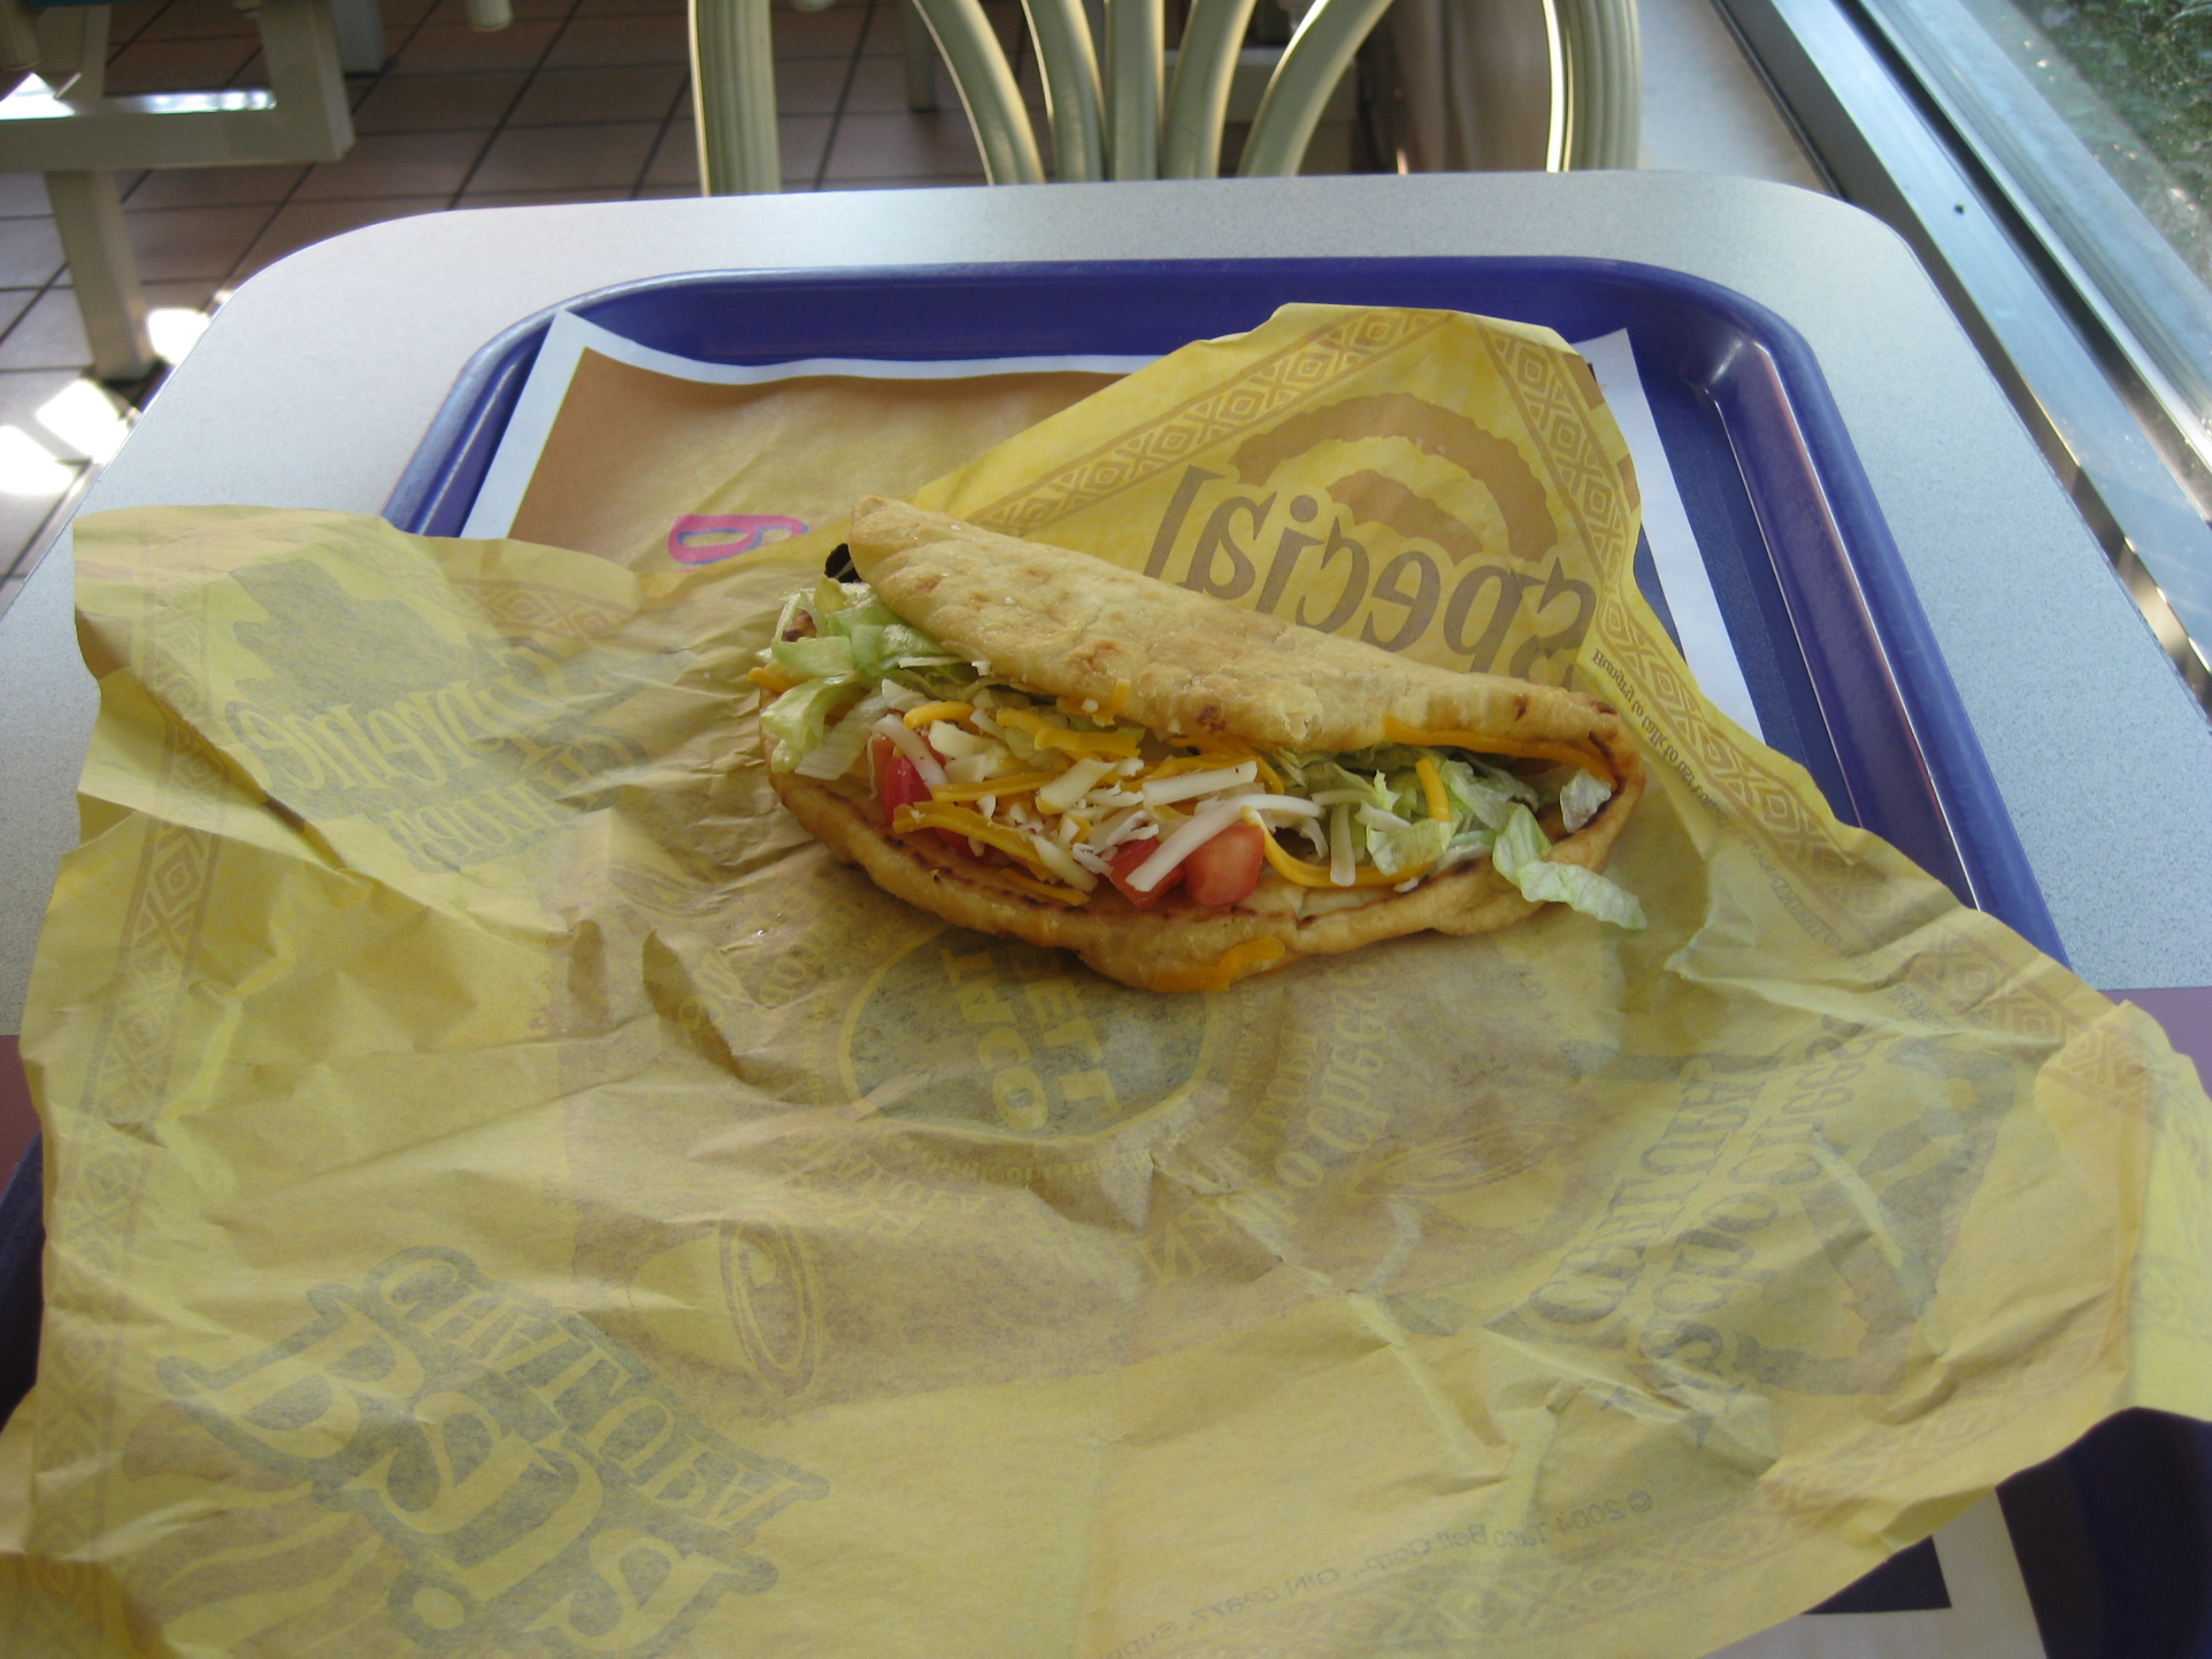taco: (736, 495, 1702, 992)
